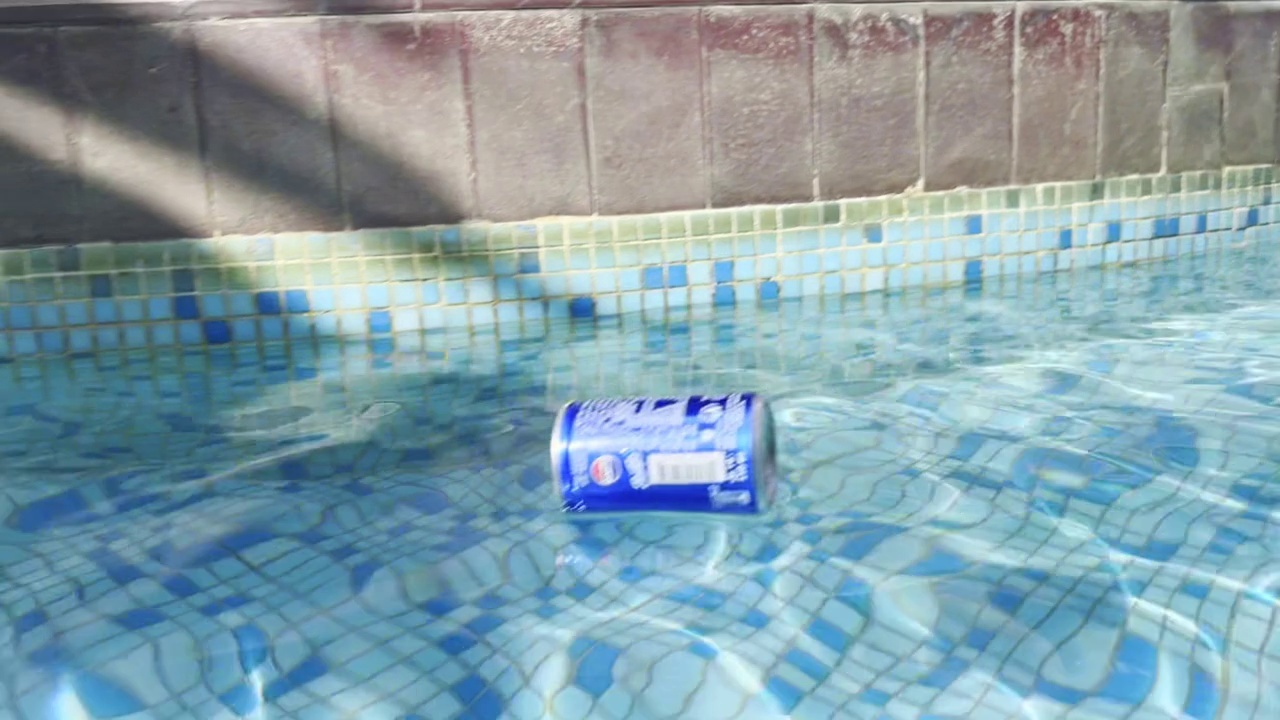debris: (547, 388, 790, 522)
